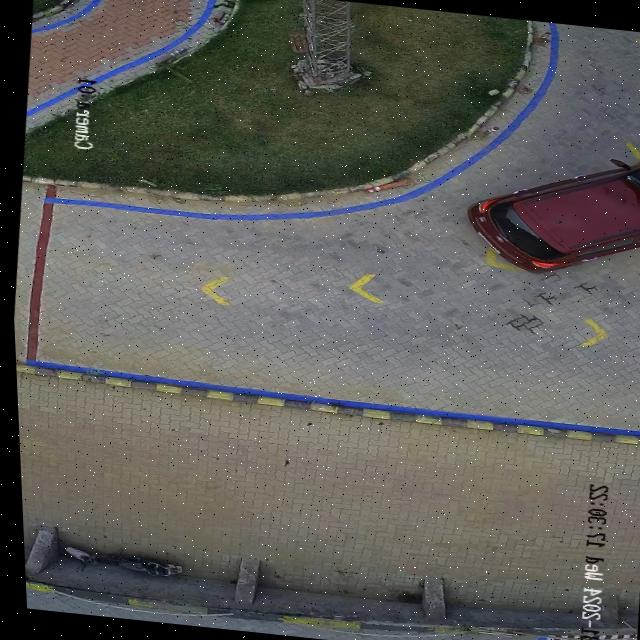car: (464, 159, 640, 273)
